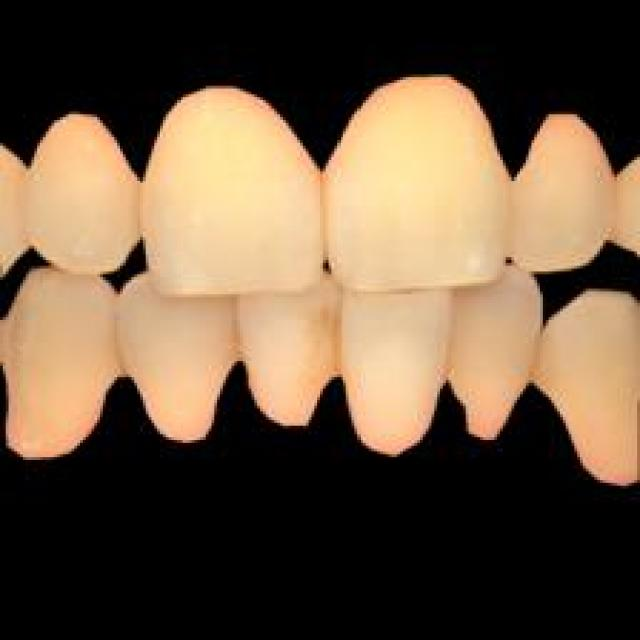1: (326, 74, 508, 289), (143, 77, 323, 289), (120, 274, 249, 443), (337, 277, 449, 457), (6, 263, 103, 460), (546, 289, 637, 494), (23, 103, 134, 271), (511, 86, 603, 274), (231, 297, 343, 429), (457, 283, 540, 437)
karies: (317, 312, 352, 368), (100, 323, 129, 368), (432, 334, 457, 380), (526, 334, 548, 377), (228, 314, 246, 360)
